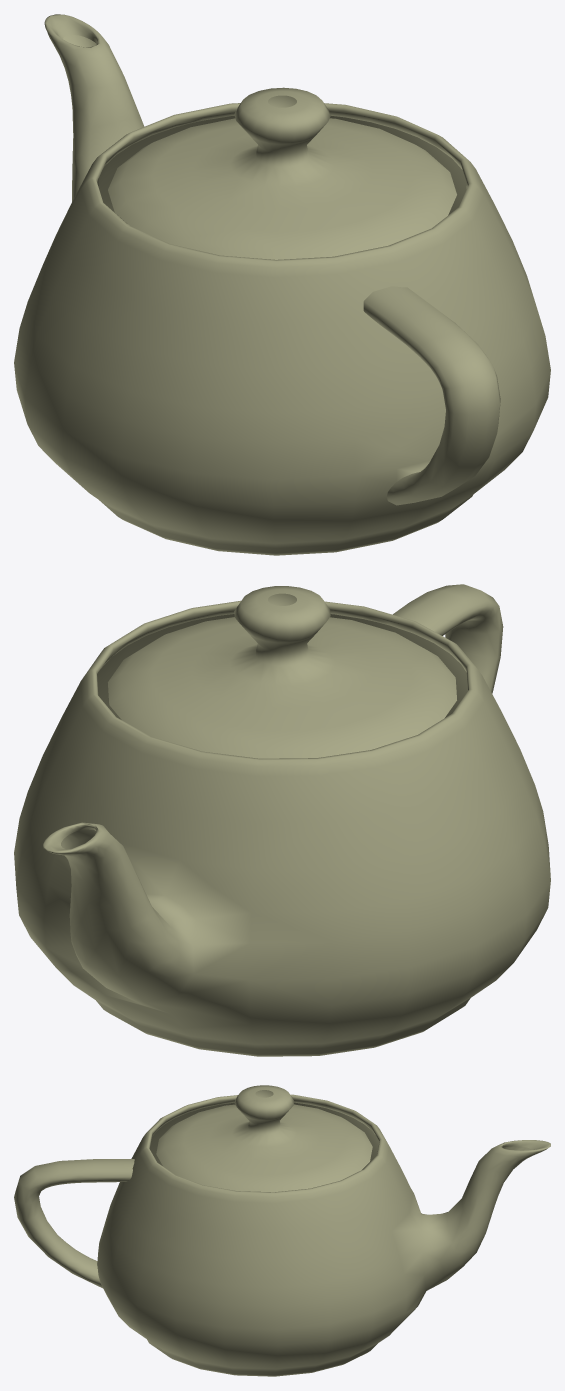
Rendered from teapot.obj.
The picture shows the model from 3 angles, top to bottom: view 1: azimuth 30°, elevation 25°; view 2: azimuth 150°, elevation 25°; view 3: azimuth 270°, elevation 25°; orthographic projection. The views are drawn at different scales.
Parts seen in each view (by area): view 1: Teapot; view 2: Teapot; view 3: Teapot.
Part boxes in pixels (x1,y1,x2,y2): Teapot: (14, 14, 550, 555); Teapot: (14, 584, 550, 1056); Teapot: (14, 1085, 550, 1376).
Bounding box in the file's own units: 3.98 × 3.15 × 6.43.
